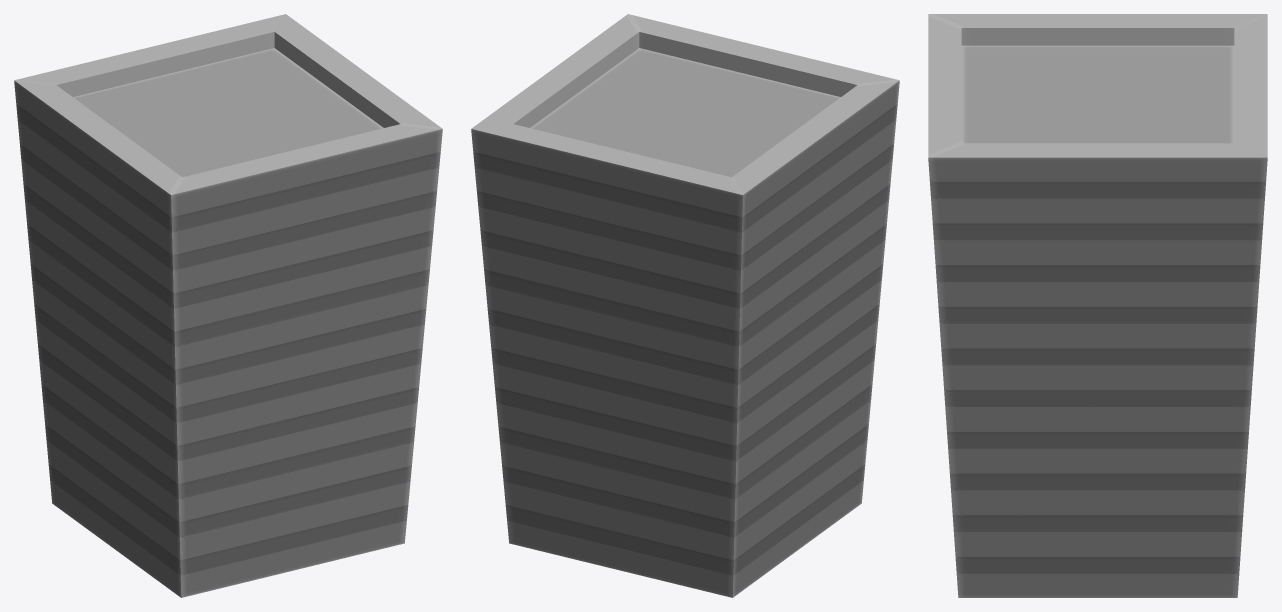
The model's file is Skyscraper_A1.fbx.
3 renders of one model, left to right at view 1: azimuth 30°, elevation 25°; view 2: azimuth 150°, elevation 25°; view 3: azimuth 270°, elevation 25°, orthographic. The views are drawn at different scales.
Parts seen in each view (by area): view 1: Skyscraper_A1; view 2: Skyscraper_A1; view 3: Skyscraper_A1.
Part boxes in pixels (x1,y1,x2,y2): Skyscraper_A1: [14, 14, 442, 597]; Skyscraper_A1: [471, 14, 899, 597]; Skyscraper_A1: [928, 14, 1267, 597].
Size of the model in its own units: 0.8522 by 1.25 by 0.8522.
